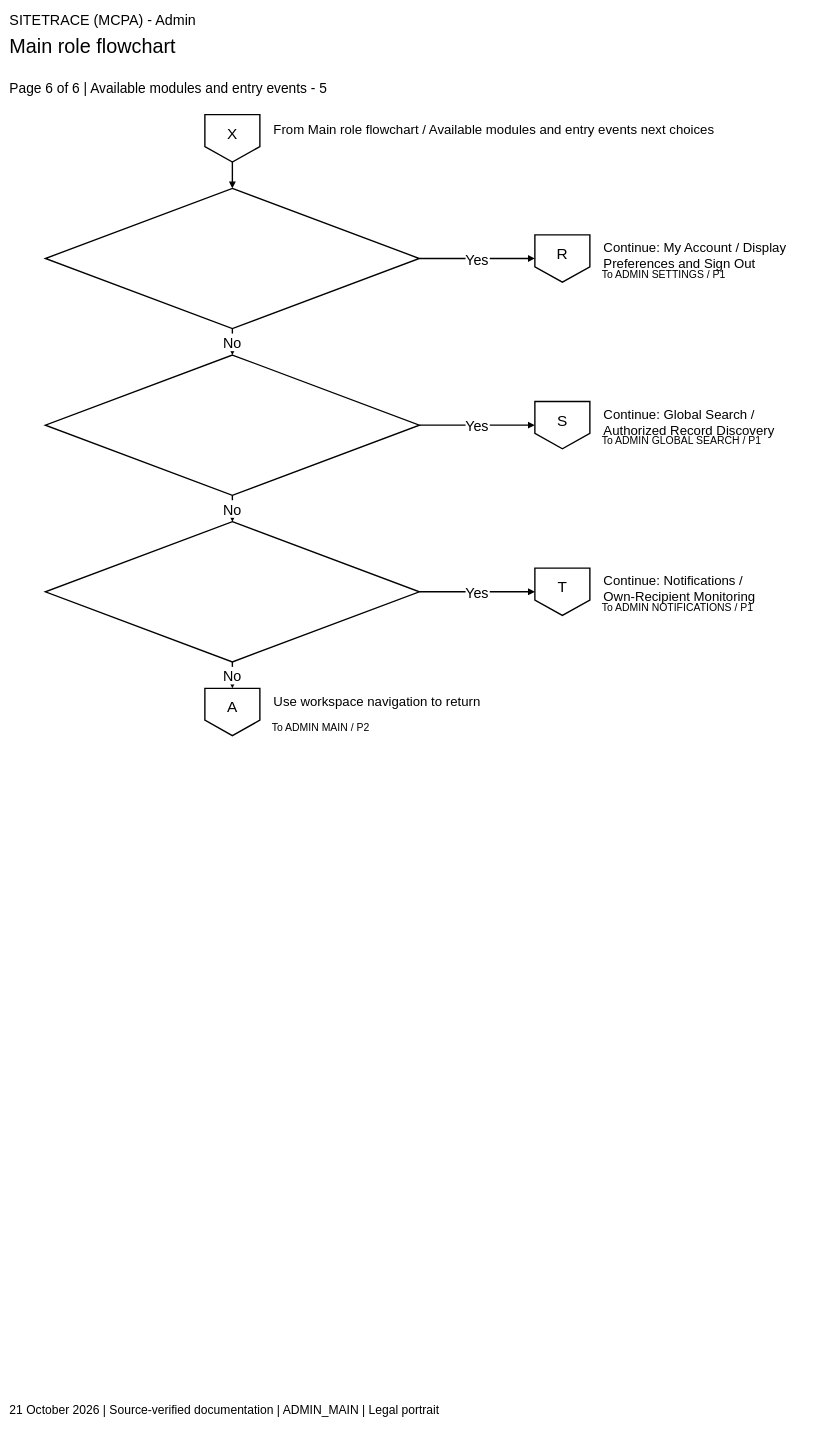
The diagram is 827 pixels wide and 1430 high, and some of its shapes have lost their labels. Here are the shapes that lost their labels. From the top down, the box of each, then its label:
(44, 187, 420, 329): Open My Account / Display Preferences and Sign Out?
(44, 354, 420, 496): Open Global Search / Authorized Record Discovery?
(44, 521, 420, 662): Open Notifications / Own-Recipient Monitoring?
